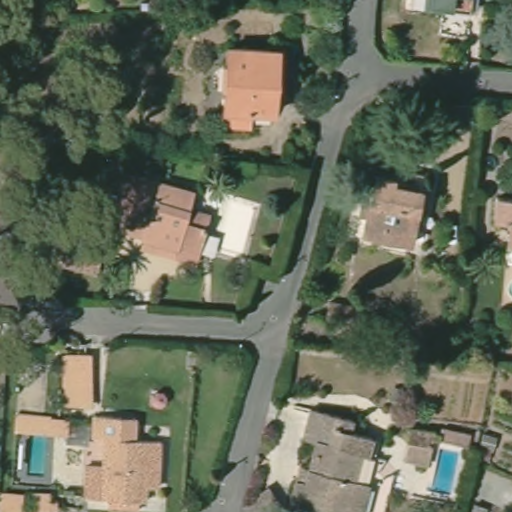pool: (430, 443, 460, 496)
